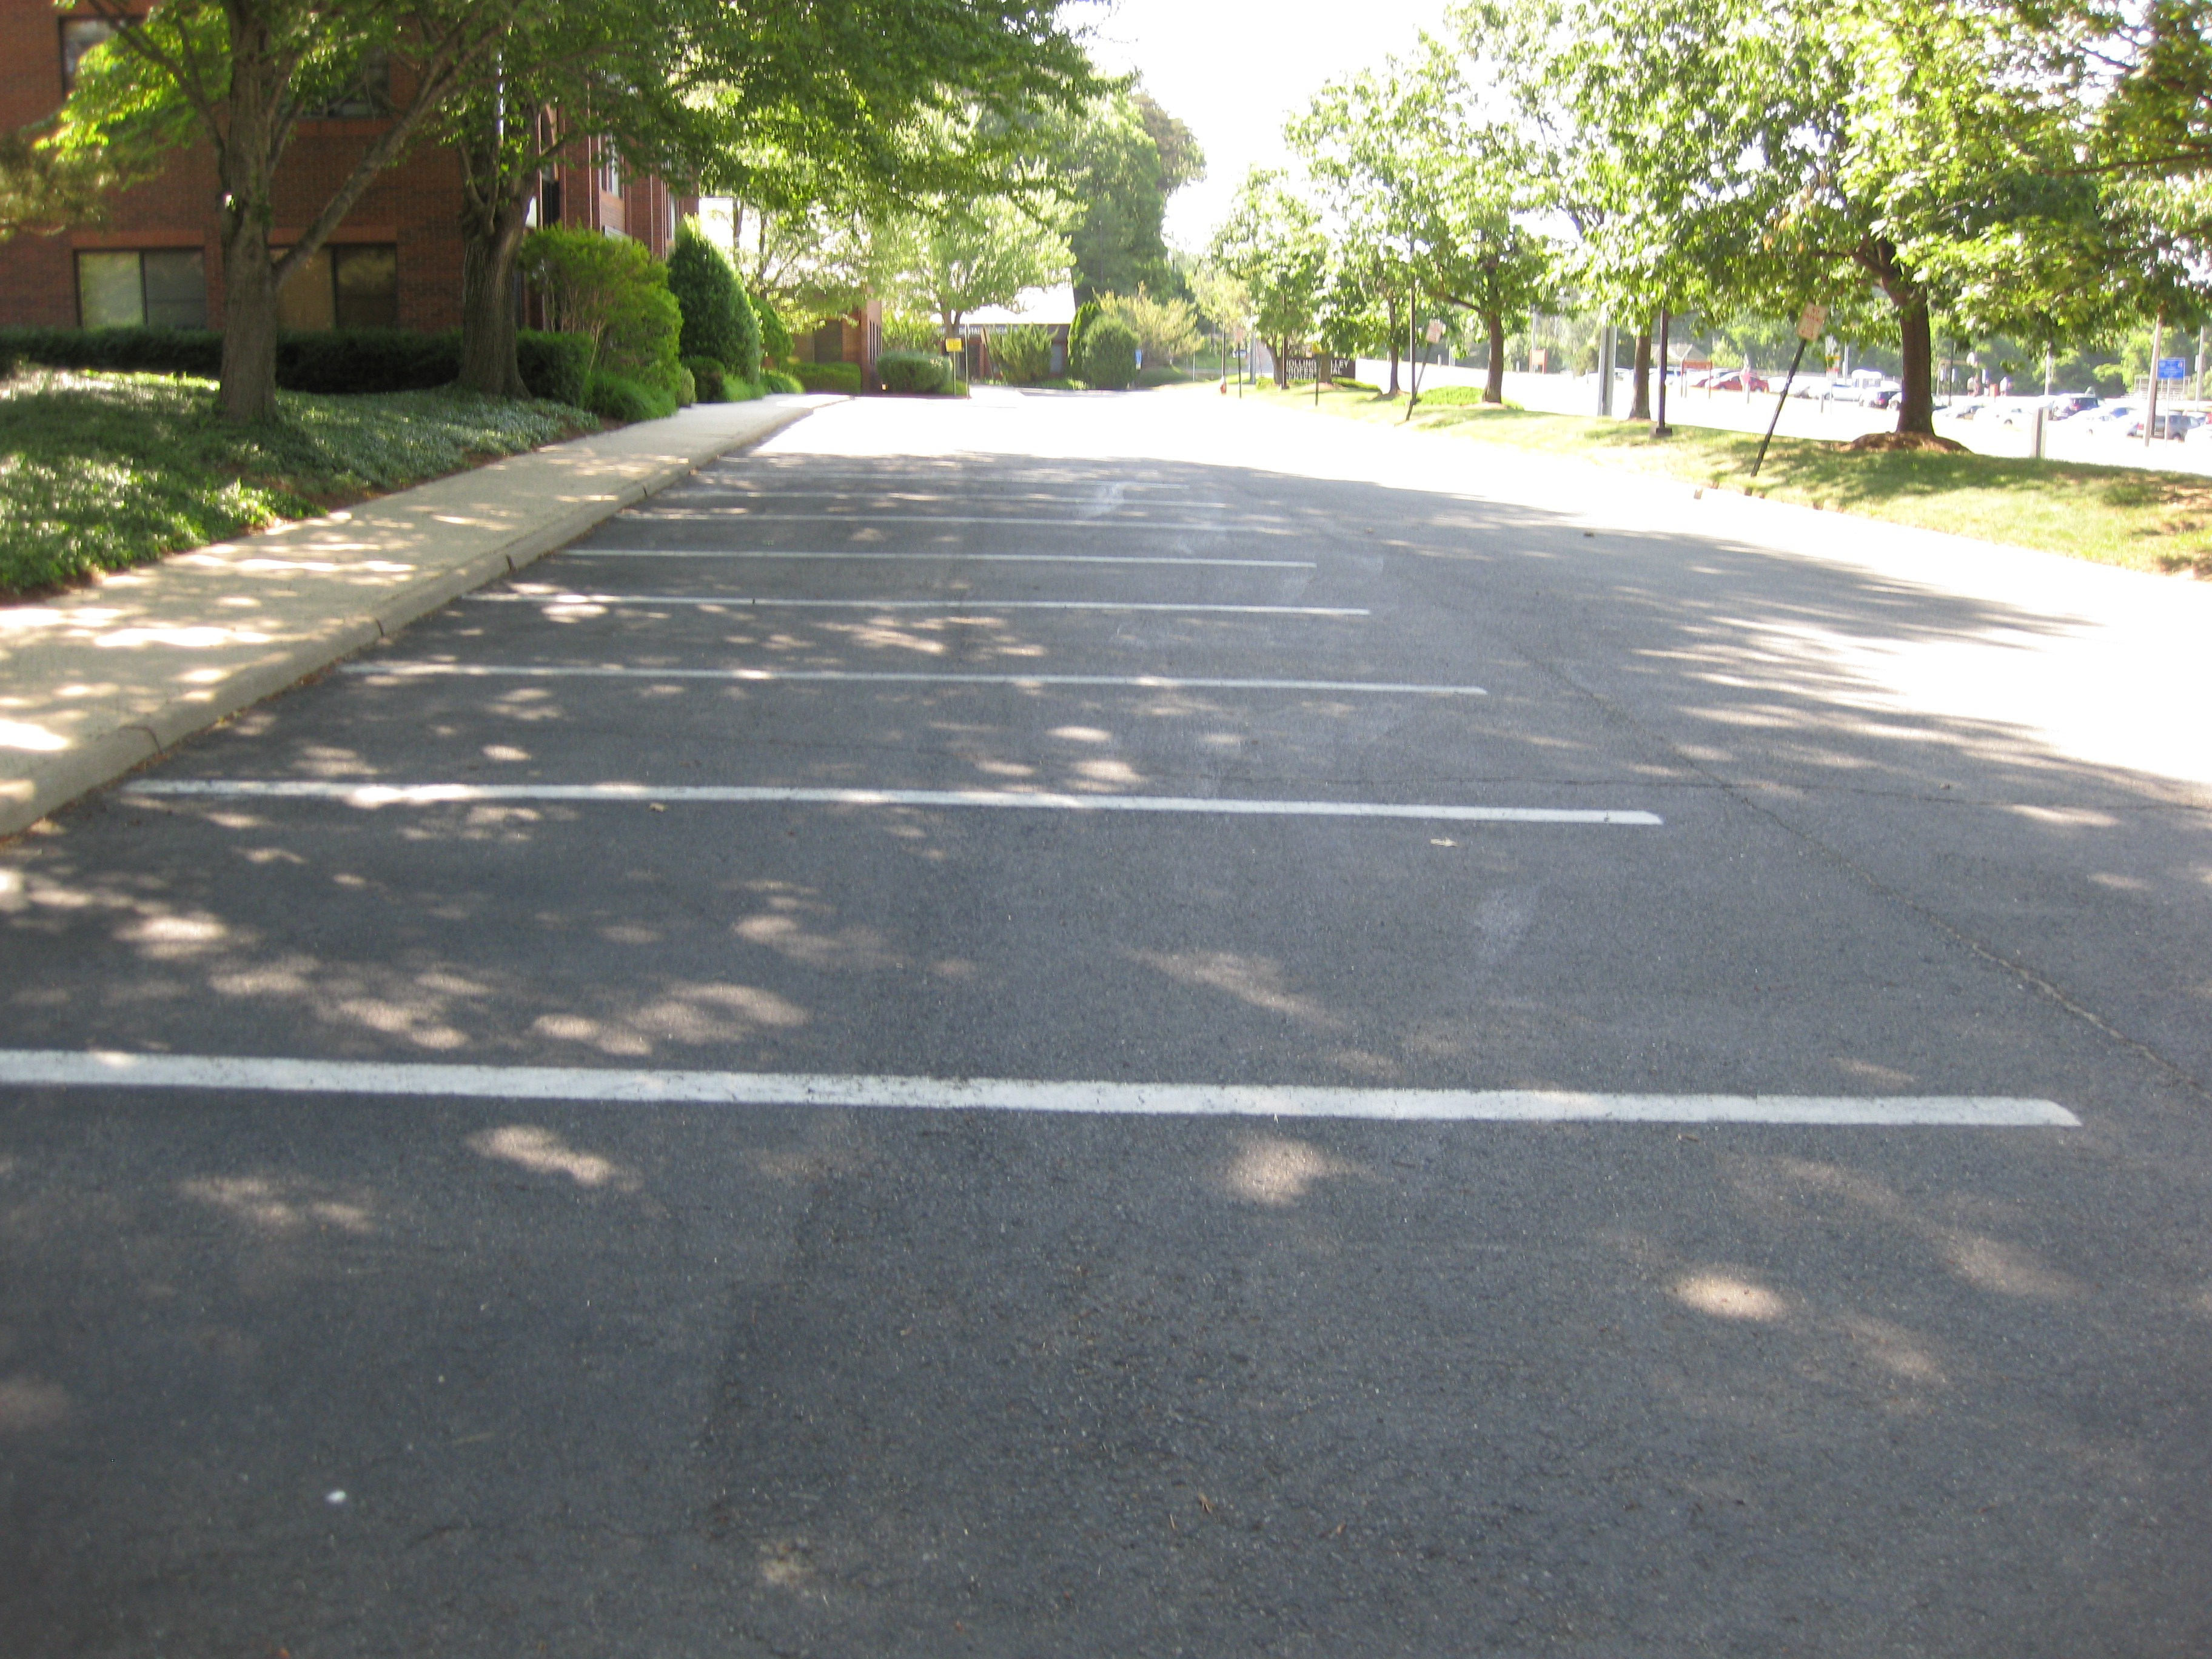empyt_space: (3, 1026, 2156, 1659), (0, 741, 2116, 1190), (92, 648, 1683, 863), (336, 566, 1501, 695), (435, 535, 1395, 627)
